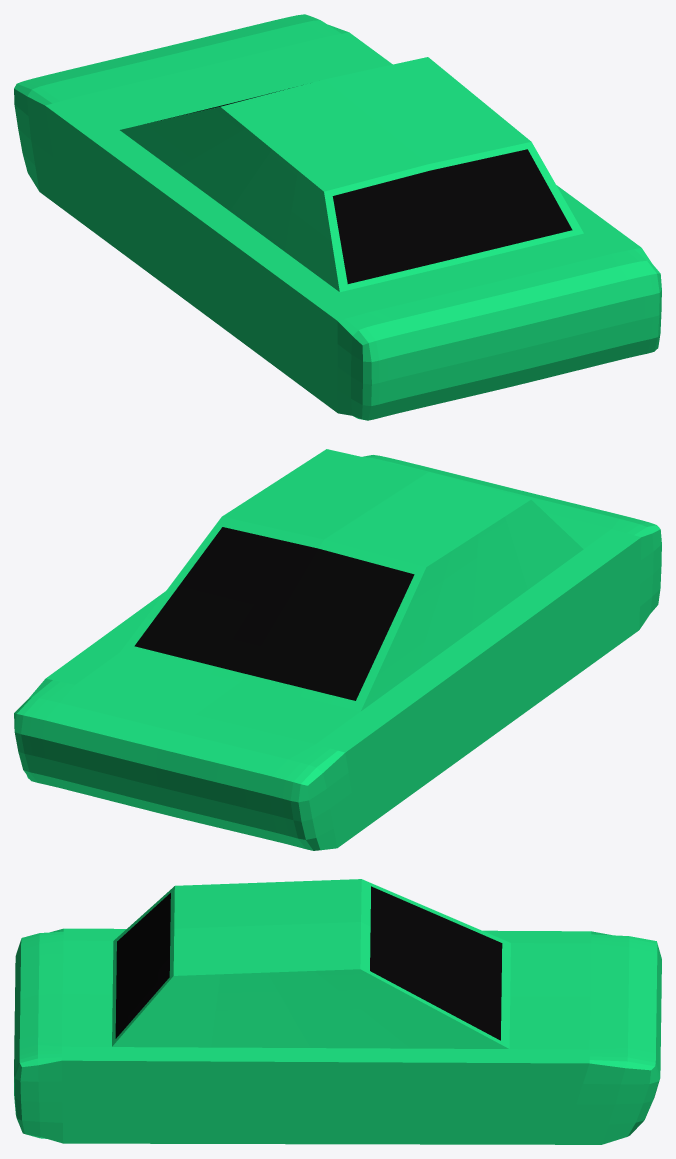
The model's file is Car.gltf.
The picture shows the model from 3 angles, top to bottom: view 1: azimuth 30°, elevation 25°; view 2: azimuth 150°, elevation 25°; view 3: azimuth 270°, elevation 25°; orthographic projection. The views are drawn at different scales.
Visible parts, largest first — view 1: Car; view 2: Car; view 3: Car.
Boxes of the visible parts, x1=… form: Car: x1=14, y1=14, x2=661, y2=420; Car: x1=14, y1=449, x2=661, y2=850; Car: x1=14, y1=879, x2=661, y2=1144.
Size of the model in its own units: 1.01 by 0.5531 by 2.07.
